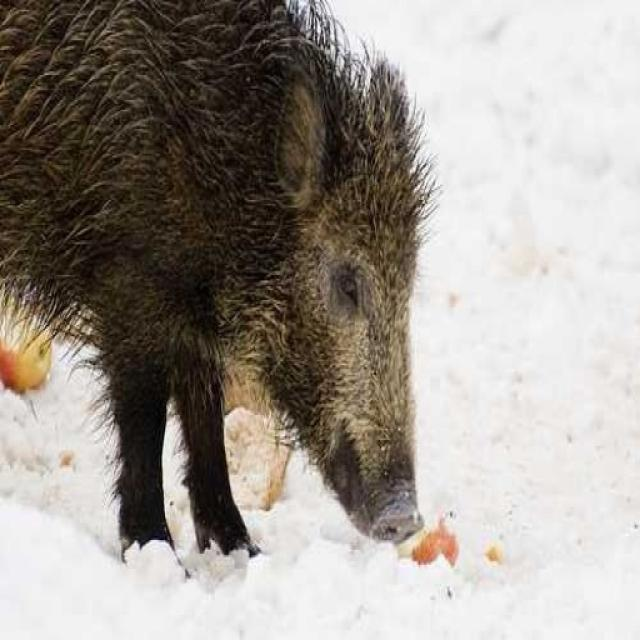pig: (2, 3, 484, 593)
